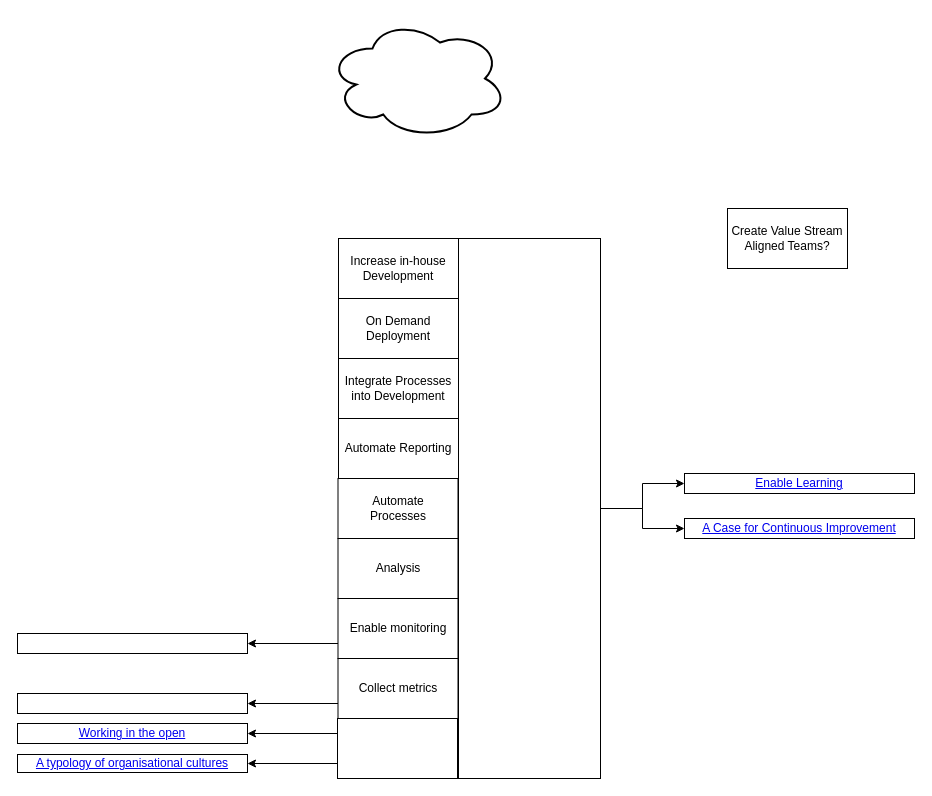
Some shapes in this 932 by 796 pixel diagram are drawn without their labels. The shapes that lost their labels are listed below. From the top down, each one's centre as x and y in pixels, then its label:
the point at 417,78: High Performing IT Organization
the point at 529,508: Create Culture of Continous Improvements Invest in Automation
the point at 397,748: Make Work Visible
